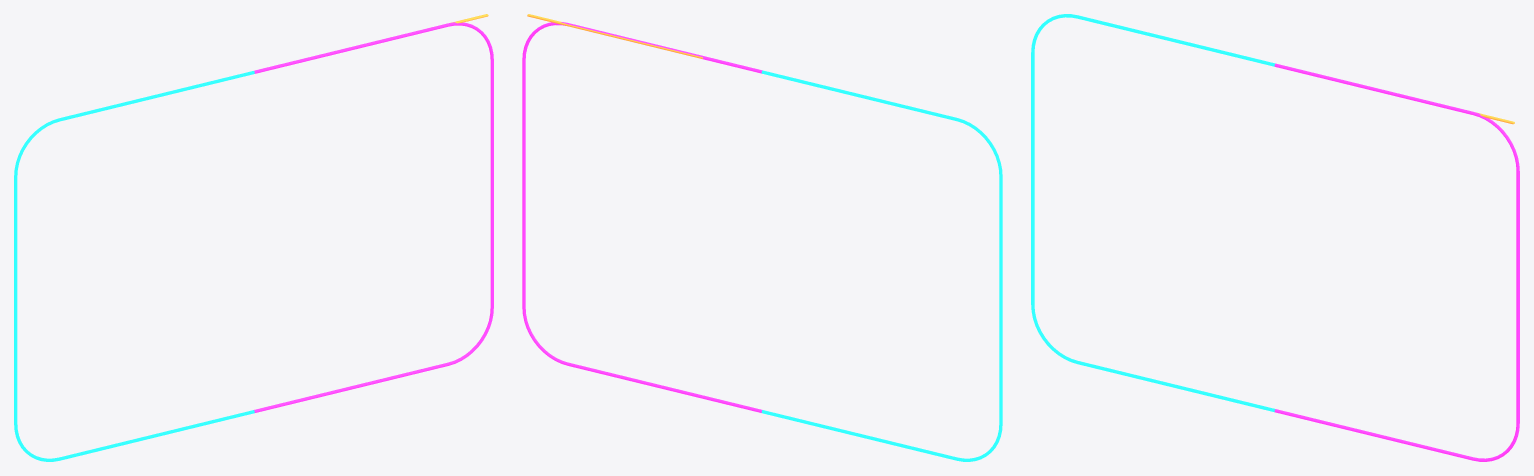
The model's file is split_glow_arcade_frame.glb.
The picture shows the model from 3 angles, left to right: view 1: azimuth 30°, elevation 25°; view 2: azimuth 150°, elevation 25°; view 3: azimuth 330°, elevation 25°; orthographic projection.
Visible parts, largest first — view 1: Rounded Portal Cyan Half, Rounded Portal Pink Half; view 2: Rounded Portal Cyan Half, Rounded Portal Pink Half, Warm Crown Accent; view 3: Rounded Portal Pink Half, Rounded Portal Cyan Half.
Boxes of the visible parts, x1,y1,x2,y2 form: Rounded Portal Cyan Half: (14, 71, 254, 461); Rounded Portal Pink Half: (254, 22, 493, 412); Rounded Portal Cyan Half: (761, 70, 1002, 461); Rounded Portal Pink Half: (522, 22, 762, 412); Warm Crown Accent: (527, 14, 702, 58); Rounded Portal Pink Half: (1274, 63, 1519, 461); Rounded Portal Cyan Half: (1031, 14, 1275, 412).
Bounding box in the file's own units: 12.27 × 8.37 × 0.0875.
